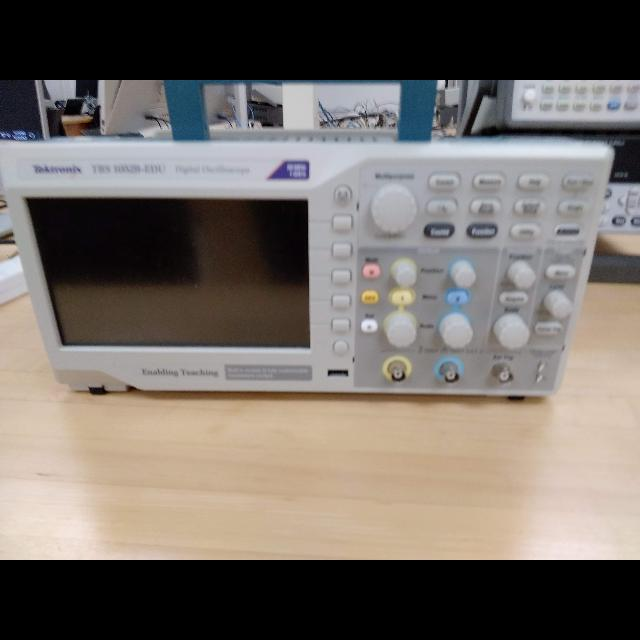Digital-Oscilloscope: (2, 144, 608, 395)
